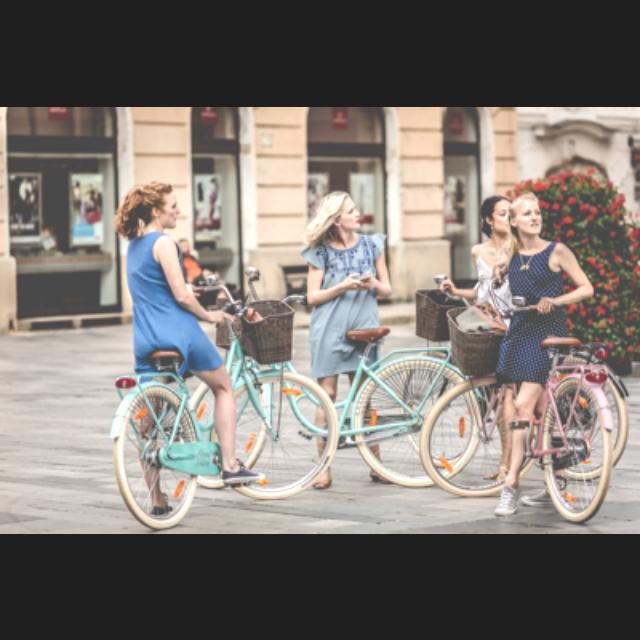Without Helmet: (130, 178, 186, 230), (506, 192, 548, 235)
